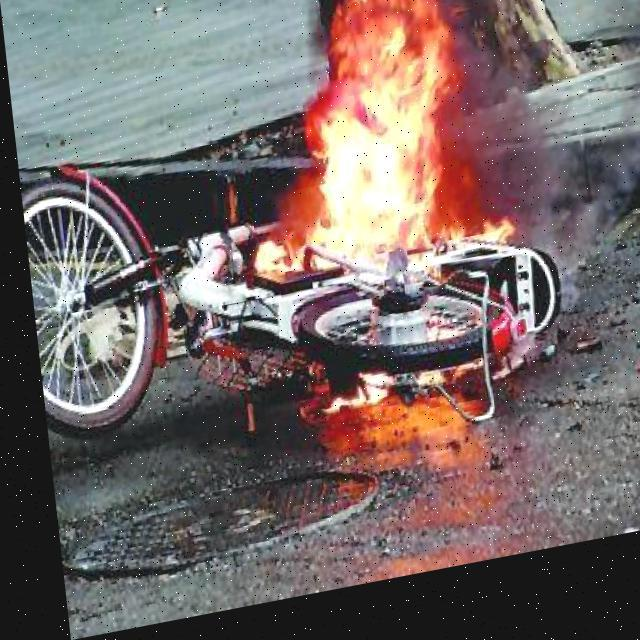Fire: (220, 0, 510, 444), (622, 343, 639, 400)
